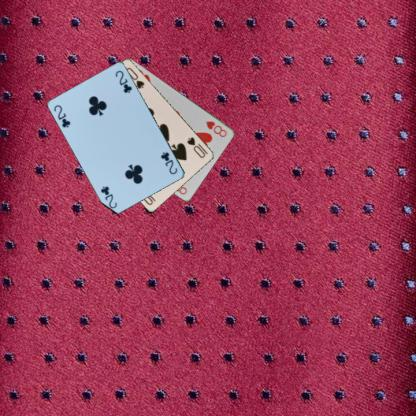10s: (184, 134, 209, 160)
2c: (52, 102, 72, 129), (158, 150, 178, 176)
8h: (204, 118, 228, 139)
